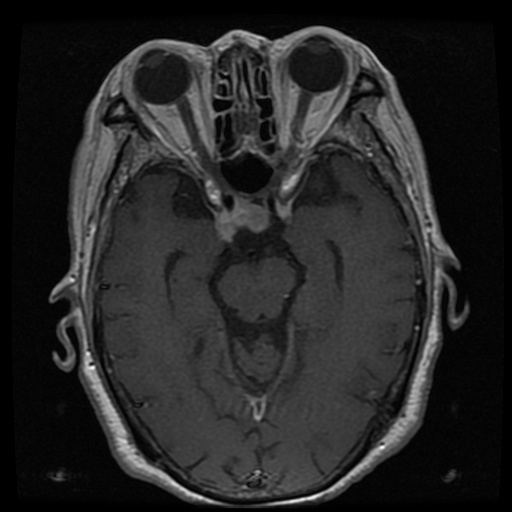pituitary: (216, 197, 269, 242)
